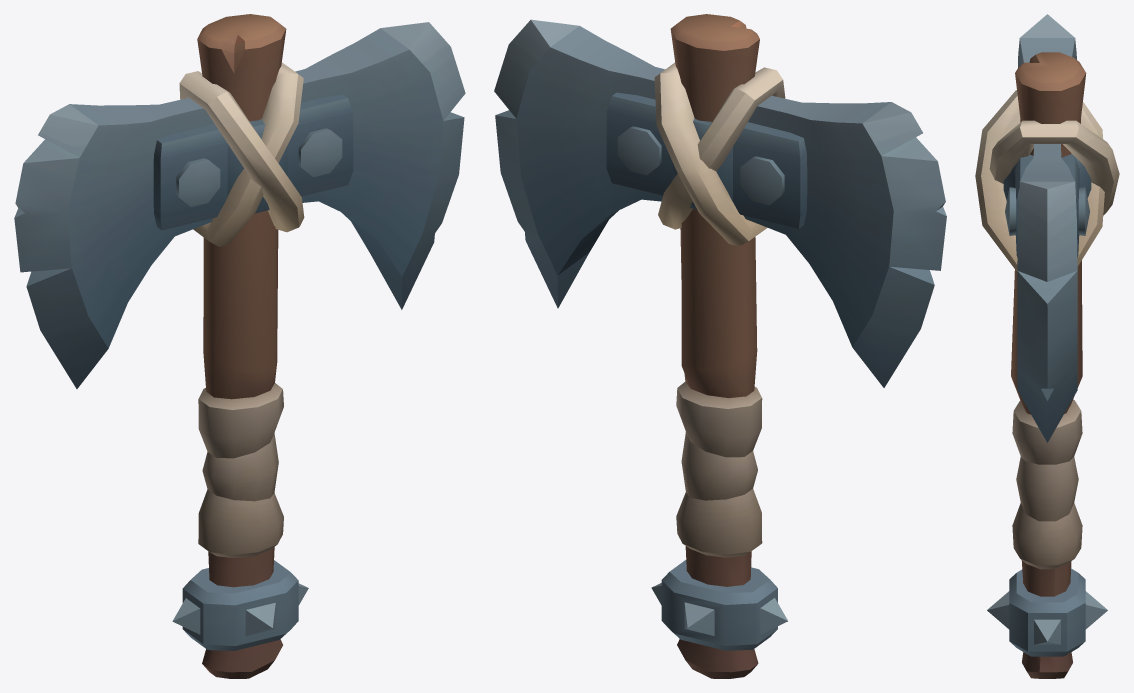
The model's file is axe_a.ba78931f.glb.
The picture shows the model from 3 angles, left to right: view 1: azimuth 30°, elevation 25°; view 2: azimuth 150°, elevation 25°; view 3: azimuth 270°, elevation 25°; orthographic projection. The views are drawn at different scales.
Visible parts, largest first — view 1: axe_A; view 2: axe_A; view 3: axe_A.
Part boxes in pixels (left/top/right/bottom): axe_A: left=14, top=14, right=465, bottom=678; axe_A: left=494, top=14, right=946, bottom=678; axe_A: left=975, top=14, right=1119, bottom=678.
Size of the model in its own units: 0.8558 by 1.16 by 0.2504.
1 material, 1 textured.
